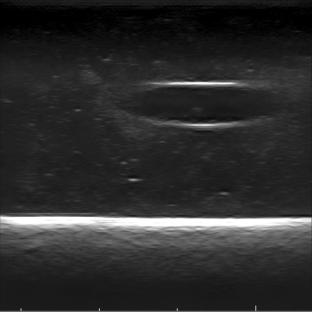vessel: (120, 82, 282, 131)
